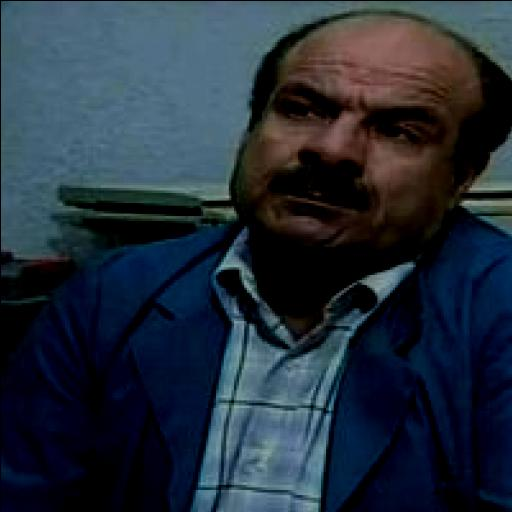beji_matrix: (233, 10, 509, 251)
